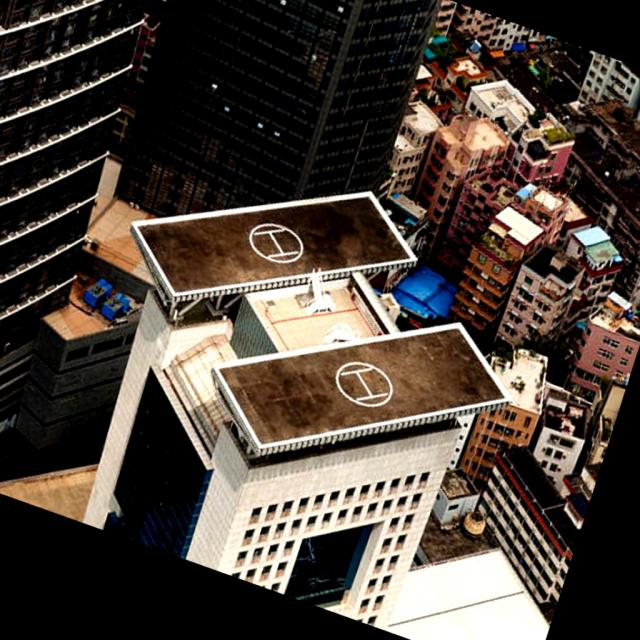helipad: (332, 356, 394, 410), (246, 218, 306, 266)
